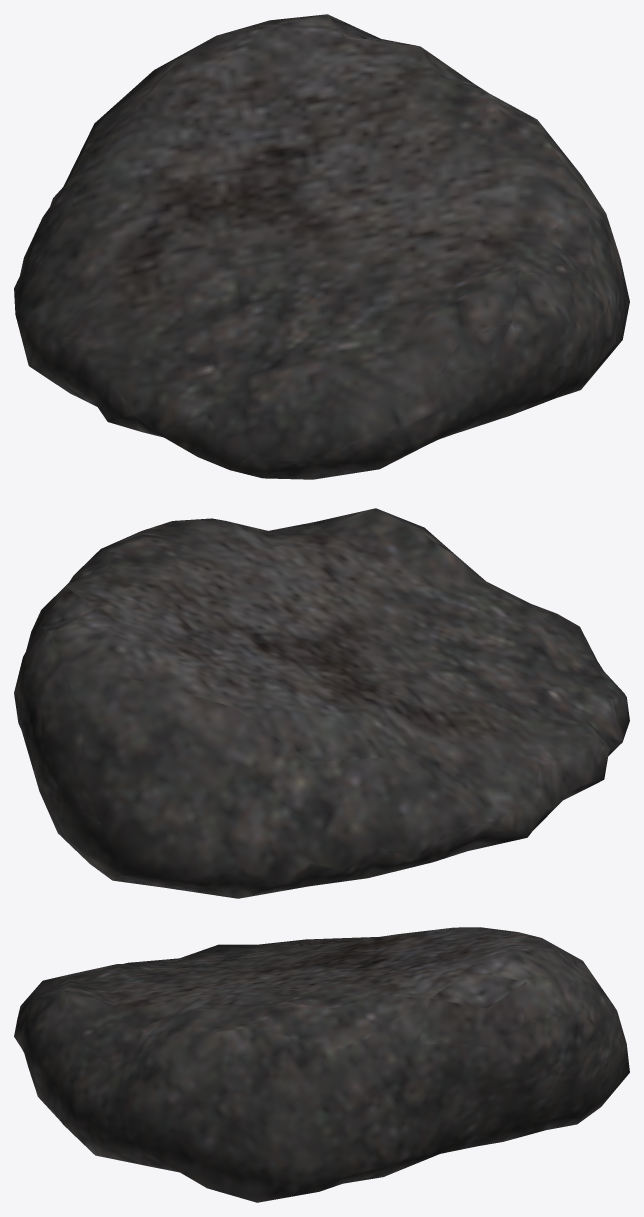
Rendered from rock 15.glb.
The picture shows the model from 3 angles, top to bottom: view 1: azimuth 30°, elevation 25°; view 2: azimuth 150°, elevation 25°; view 3: azimuth 270°, elevation 25°; orthographic projection. The views are drawn at different scales.
Visible parts, largest first — view 1: AR15; view 2: AR15; view 3: AR15.
Boxes of the visible parts, x1,y1,x2,y2 form: AR15: [14, 14, 629, 479]; AR15: [14, 508, 629, 898]; AR15: [14, 927, 629, 1202].
Size of the model in its own units: 11.32 by 4.53 by 13.41.
Materials: 1 (1 with a texture image).
